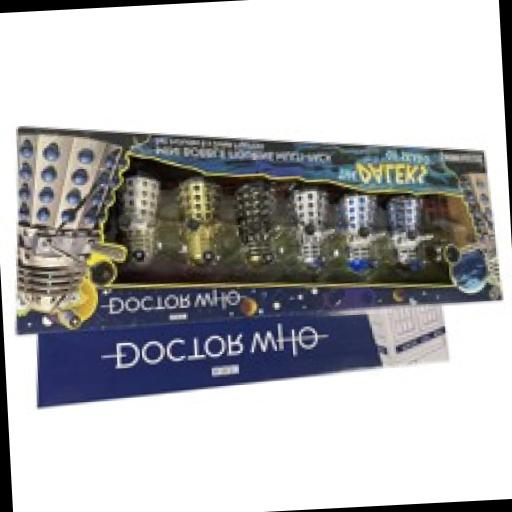dalek: (6, 122, 143, 330), (173, 170, 231, 270), (116, 164, 169, 270), (382, 188, 439, 274), (236, 172, 284, 274), (338, 186, 392, 274), (290, 182, 340, 276)
